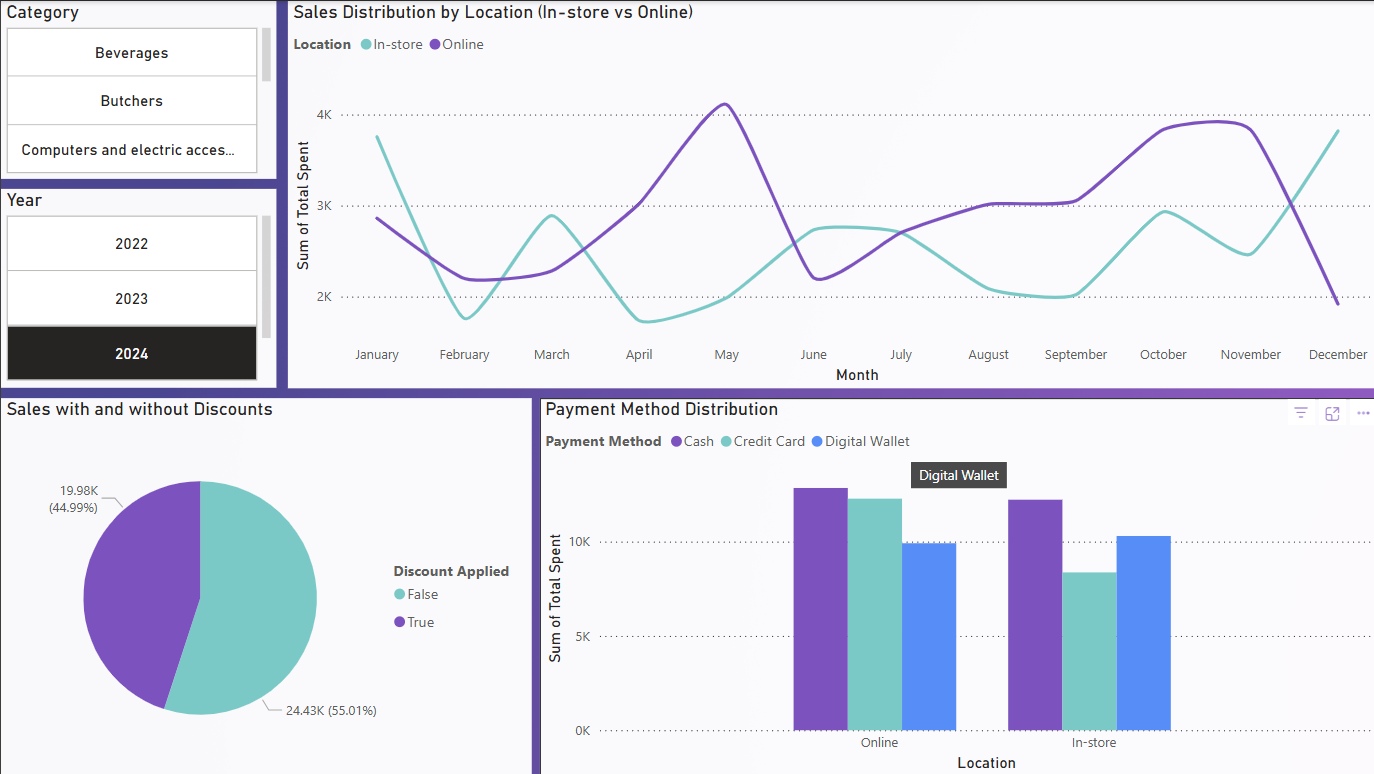

Layout of this report page (visuals, bound fields, positions):
{"tool":"powerbi","page":{"name":"Discount & Payment Insights","canvas":[1280,720],"ordinal":2},"visuals":[{"type":"clusteredColumnChart","title":"Payment Method Distribution","fields":{"Category":["visual_retail_sales_data.Location"],"Y":["Sum(visual_retail_sales_data.Total Spent)"],"Series":["visual_retail_sales_data.Payment Method"]},"box":[500.9,369.1,779,351.3],"z":0},{"type":"pieChart","title":"Sales with and without Discounts","fields":{"Category":["visual_retail_sales_data.Discount Applied"],"Y":["Sum(visual_retail_sales_data.Total Spent)"]},"box":[0,369.1,493.6,351.3],"z":1000},{"type":"lineChart","title":"Sales Distribution by Location (In-store vs Online)","fields":{"Series":["visual_retail_sales_data.Location"],"Category":["visual_retail_sales_data.Year-Month.Variation.Date Hierarchy.Month"],"Y":["Sum(visual_retail_sales_data.Total Spent)"]},"box":[266.6,0,1013.2,359.7],"z":2000},{"type":"advancedSlicerVisual","fields":{"Values":["visual_retail_sales_data.Category"]},"box":[0,0,256.2,165.2],"z":3000},{"type":"advancedSlicerVisual","fields":{"Values":["visual_retail_sales_data.Year"]},"box":[0,174.6,256.2,185.1],"z":4000}]}

Visuals, with their boxes in screenshot pixels (x1, y1, x2, y2), scaled from the page's 1280x720 canvas onto the 1374x774 screenshot:
"Payment Method Distribution" clusteredColumnChart: <box>538,397,1373,773</box>
"Sales with and without Discounts" pieChart: <box>0,397,530,773</box>
"Sales Distribution by Location (In-store vs Online)" lineChart: <box>286,0,1373,387</box>
advancedSlicerVisual - visual_retail_sales_data.Category: <box>0,0,275,178</box>
advancedSlicerVisual - visual_retail_sales_data.Year: <box>0,188,275,387</box>
